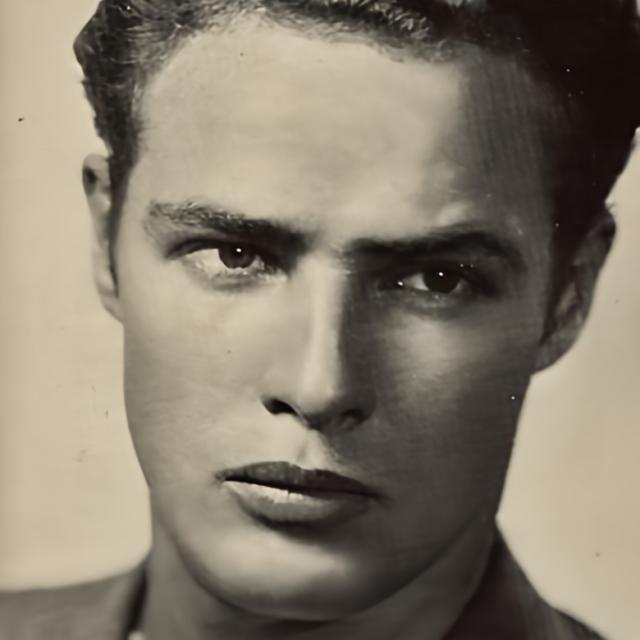anger: (118, 27, 541, 620)
